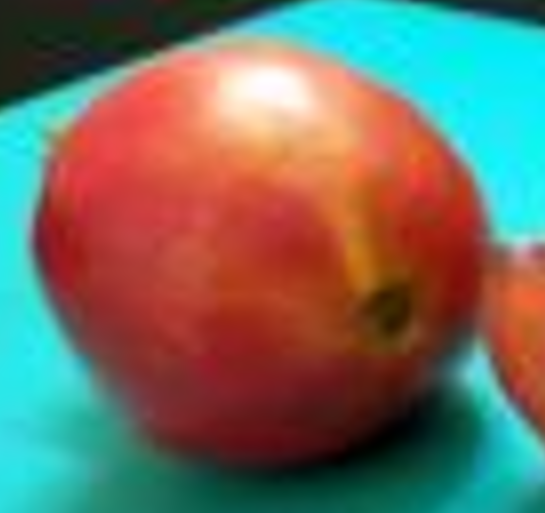pomegranate_A: (32, 36, 489, 474)
